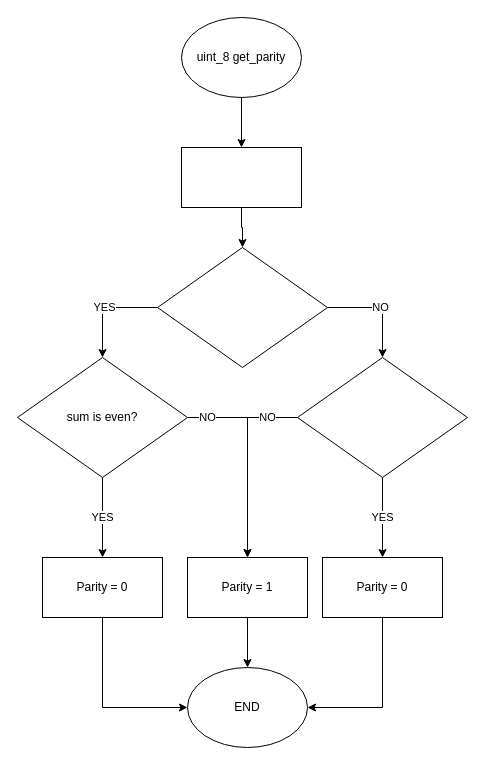
This 485x765 diagram has some shape labels left out. The shapes that lost their labels are listed below. From the top down, each one's centre as x and y in pixels, then its label:
At (241,177): "sum bits".
At (242,307): "type = even?".
At (382,417): "sum is odd?".
